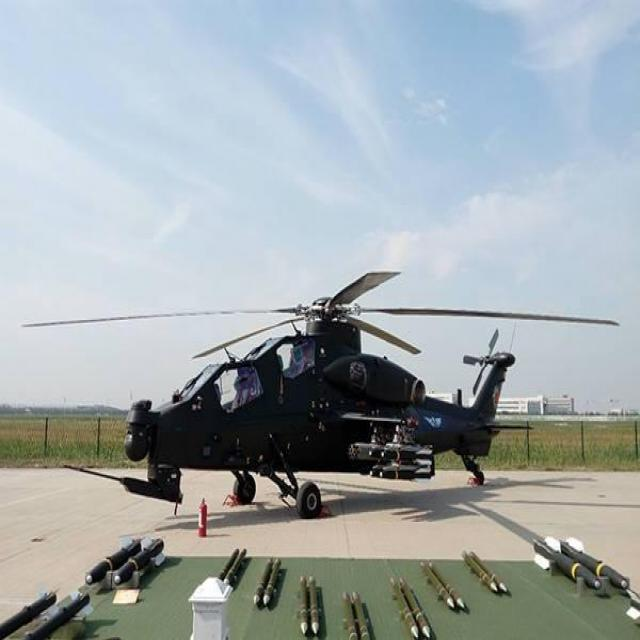MIL_HELO: (14, 251, 572, 526)
